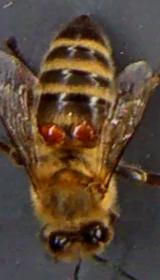varroa_mite: (36, 116, 68, 149), (66, 119, 97, 146)
